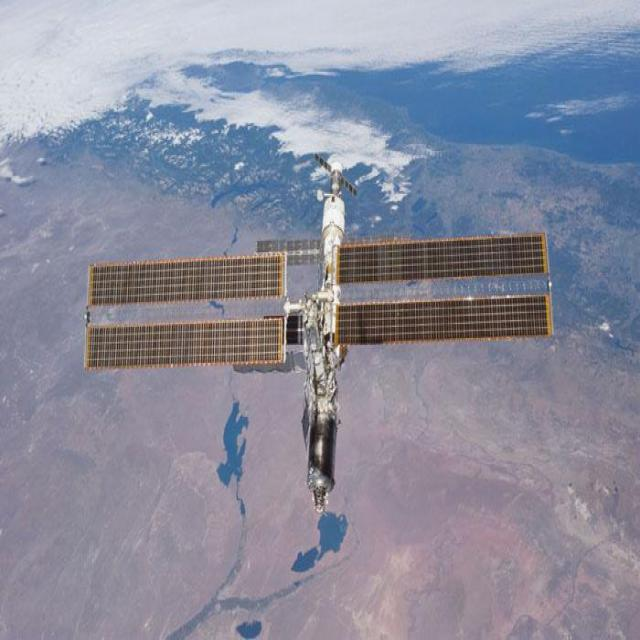satellite: (86, 150, 558, 520)
